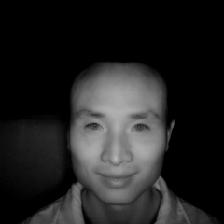happy: (57, 48, 185, 205)
